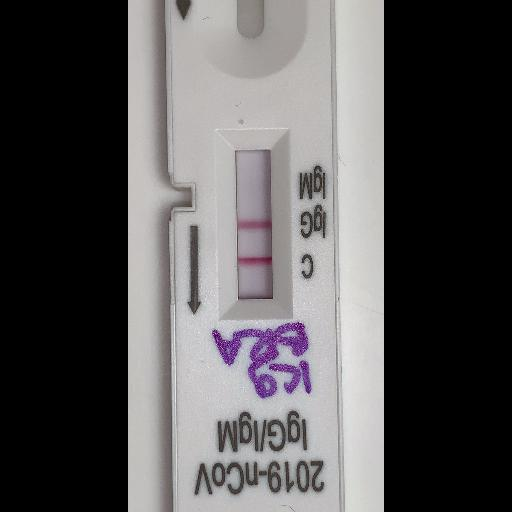Pos: (165, 0, 346, 511)
